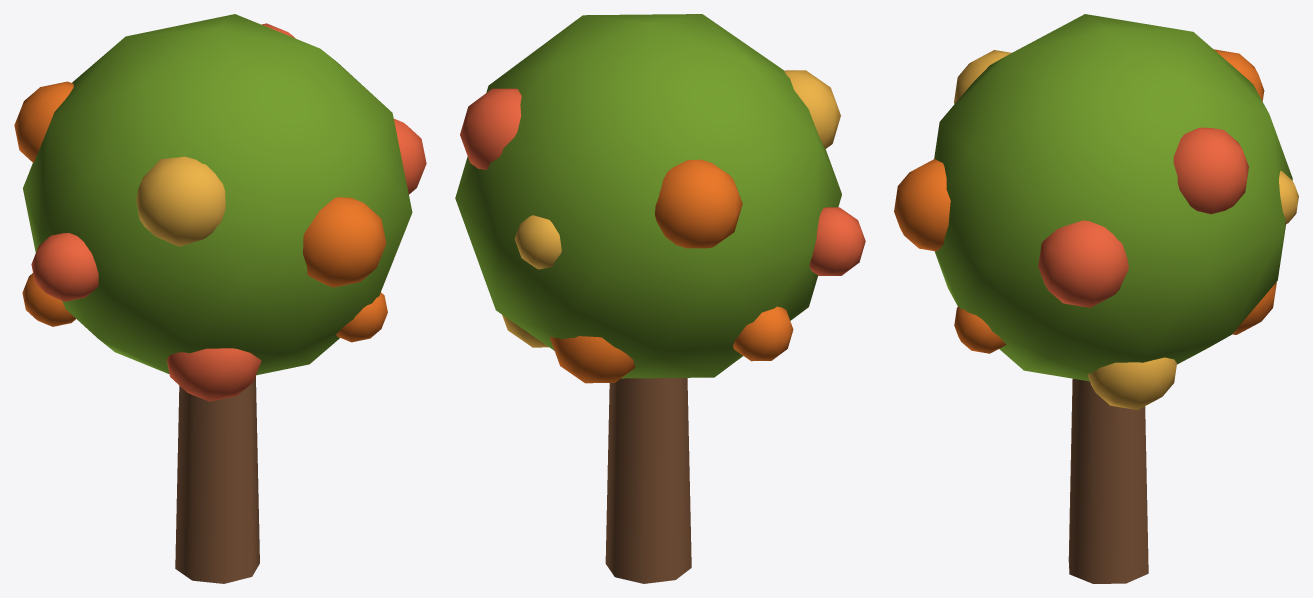
Rendered from Tree-7.fbx.
3 views of the same model, side by side, from view 1: azimuth 30°, elevation 25°; view 2: azimuth 150°, elevation 25°; view 3: azimuth 270°, elevation 25° (orthographic).
Visible parts, largest first — view 1: Icosphere.341, Cylinder.339, Icosphere.351, Icosphere.342, Icosphere.346, Icosphere.344, Icosphere.348, Icosphere.350, Icosphere.347, Icosphere.352; view 2: Icosphere.341, Cylinder.339, Icosphere.348, Icosphere.349, Icosphere.344, Icosphere.345, Icosphere.350, Icosphere.351, Icosphere.353; view 3: Icosphere.341, Cylinder.339, Icosphere.347, Icosphere.349, Icosphere.342, Icosphere.343, Icosphere.352, Icosphere.351, Icosphere.348, Icosphere.353, Icosphere.345.
Boxes of the visible parts, bbox=[...] form: Icosphere.341: bbox=[23, 14, 412, 375]; Cylinder.339: bbox=[175, 376, 259, 583]; Icosphere.351: bbox=[136, 156, 225, 246]; Icosphere.342: bbox=[303, 197, 386, 287]; Icosphere.346: bbox=[167, 348, 261, 401]; Icosphere.344: bbox=[31, 233, 98, 301]; Icosphere.348: bbox=[14, 81, 73, 162]; Icosphere.350: bbox=[22, 273, 75, 326]; Icosphere.347: bbox=[394, 119, 426, 194]; Icosphere.352: bbox=[336, 292, 387, 342]; Icosphere.341: bbox=[455, 14, 841, 378]; Cylinder.339: bbox=[605, 378, 691, 583]; Icosphere.348: bbox=[655, 159, 742, 248]; Icosphere.349: bbox=[460, 88, 521, 169]; Icosphere.344: bbox=[809, 207, 865, 275]; Icosphere.345: bbox=[550, 336, 635, 383]; Icosphere.350: bbox=[733, 306, 793, 361]; Icosphere.351: bbox=[784, 70, 840, 148]; Icosphere.353: bbox=[514, 215, 561, 269]; Icosphere.341: bbox=[934, 14, 1292, 381]; Cylinder.339: bbox=[1068, 378, 1148, 583]; Icosphere.347: bbox=[1038, 220, 1128, 307]; Icosphere.349: bbox=[1173, 127, 1248, 214]; Icosphere.342: bbox=[894, 159, 950, 251]; Icosphere.343: bbox=[1087, 357, 1176, 409]; Icosphere.352: bbox=[954, 306, 1006, 353]; Icosphere.351: bbox=[954, 50, 1011, 103]; Icosphere.348: bbox=[1214, 49, 1264, 100]; Icosphere.353: bbox=[1279, 171, 1298, 224]; Icosphere.345: bbox=[1232, 282, 1276, 334].
Bounding box in the file's own units: 41.54 × 55.01 × 37.63.
